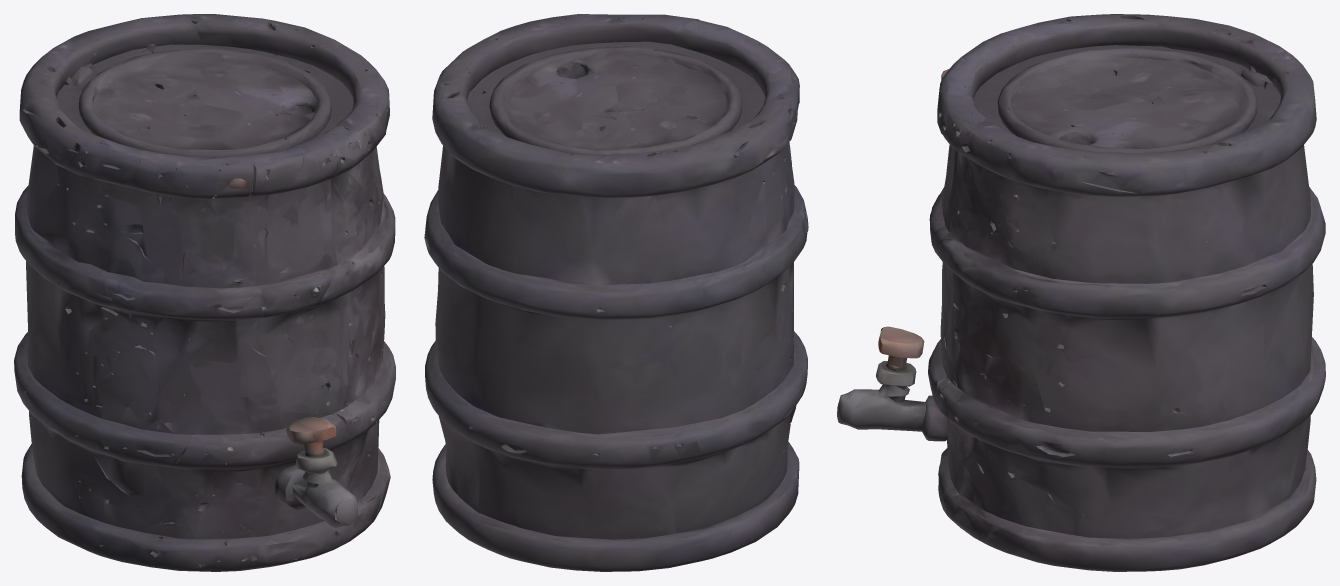
The model's file is barrel_idle.glb.
3 views of the same model, side by side, from view 1: azimuth 30°, elevation 25°; view 2: azimuth 150°, elevation 25°; view 3: azimuth 270°, elevation 25° (orthographic).
Parts seen in each view (by area): view 1: tripo_node_4c8ceb0f-b97d-45a4-ad20-4a6a75974f28; view 2: tripo_node_4c8ceb0f-b97d-45a4-ad20-4a6a75974f28; view 3: tripo_node_4c8ceb0f-b97d-45a4-ad20-4a6a75974f28.
Boxes of the visible parts, x1,y1,x2,y2 form: tripo_node_4c8ceb0f-b97d-45a4-ad20-4a6a75974f28: (14,14,395,571); tripo_node_4c8ceb0f-b97d-45a4-ad20-4a6a75974f28: (424,14,808,571); tripo_node_4c8ceb0f-b97d-45a4-ad20-4a6a75974f28: (837,14,1325,571).
Size of the model in its own units: 0.7546 by 0.8997 by 0.969.
Materials: 1 (1 with a texture image).
